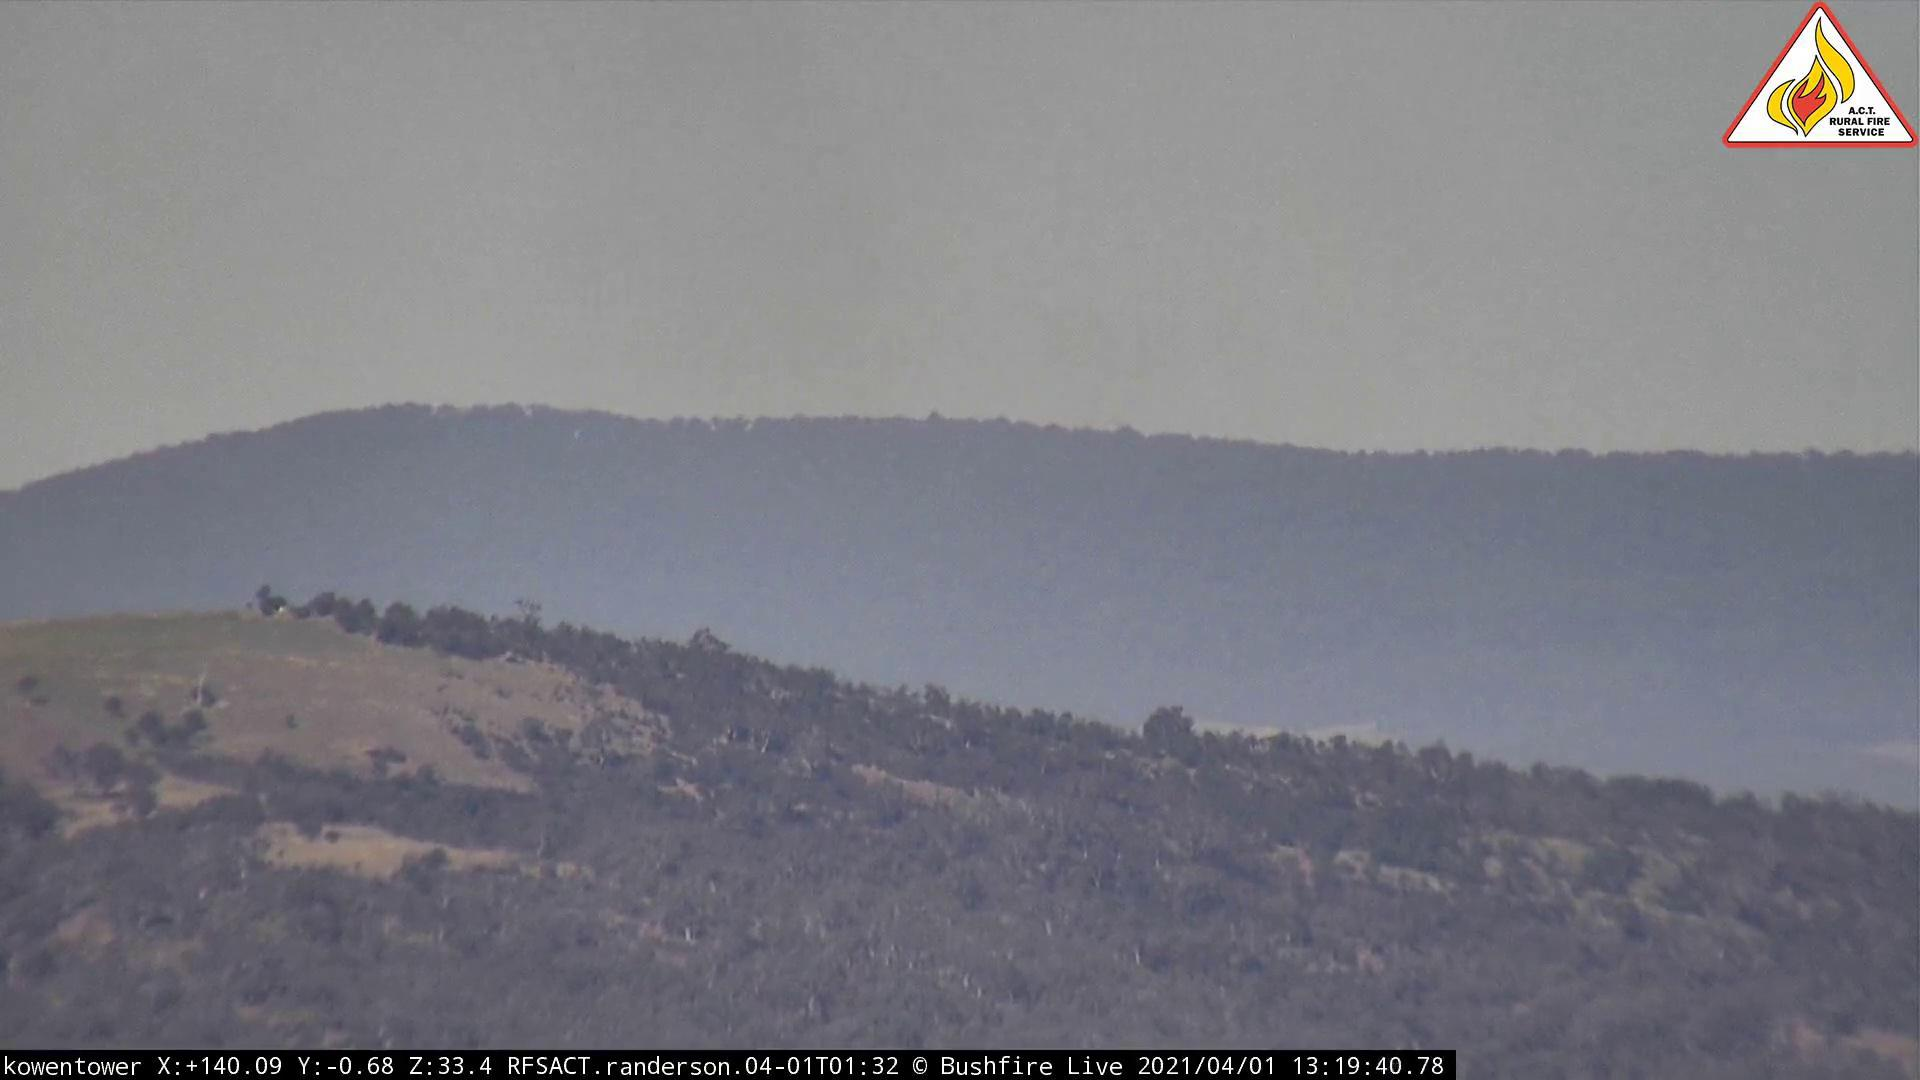Smoke: (596, 98, 1013, 444)
